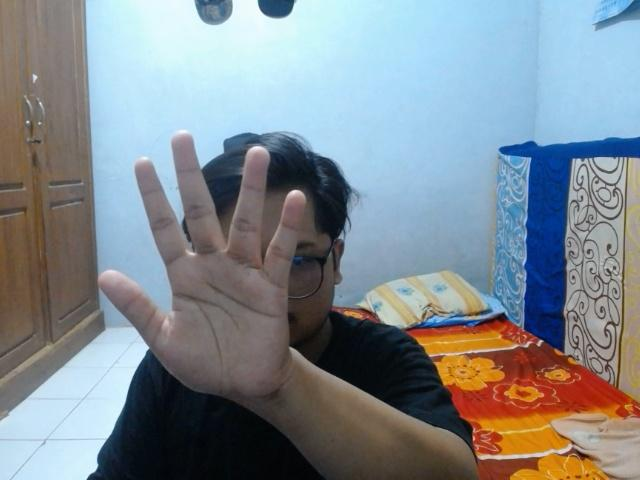Release: (91, 124, 313, 408)
